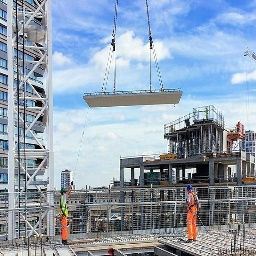helmet: (186, 185, 193, 192), (60, 188, 66, 195)
person: (181, 184, 202, 244), (56, 186, 72, 247)
vest: (186, 194, 201, 218), (60, 197, 71, 217)
